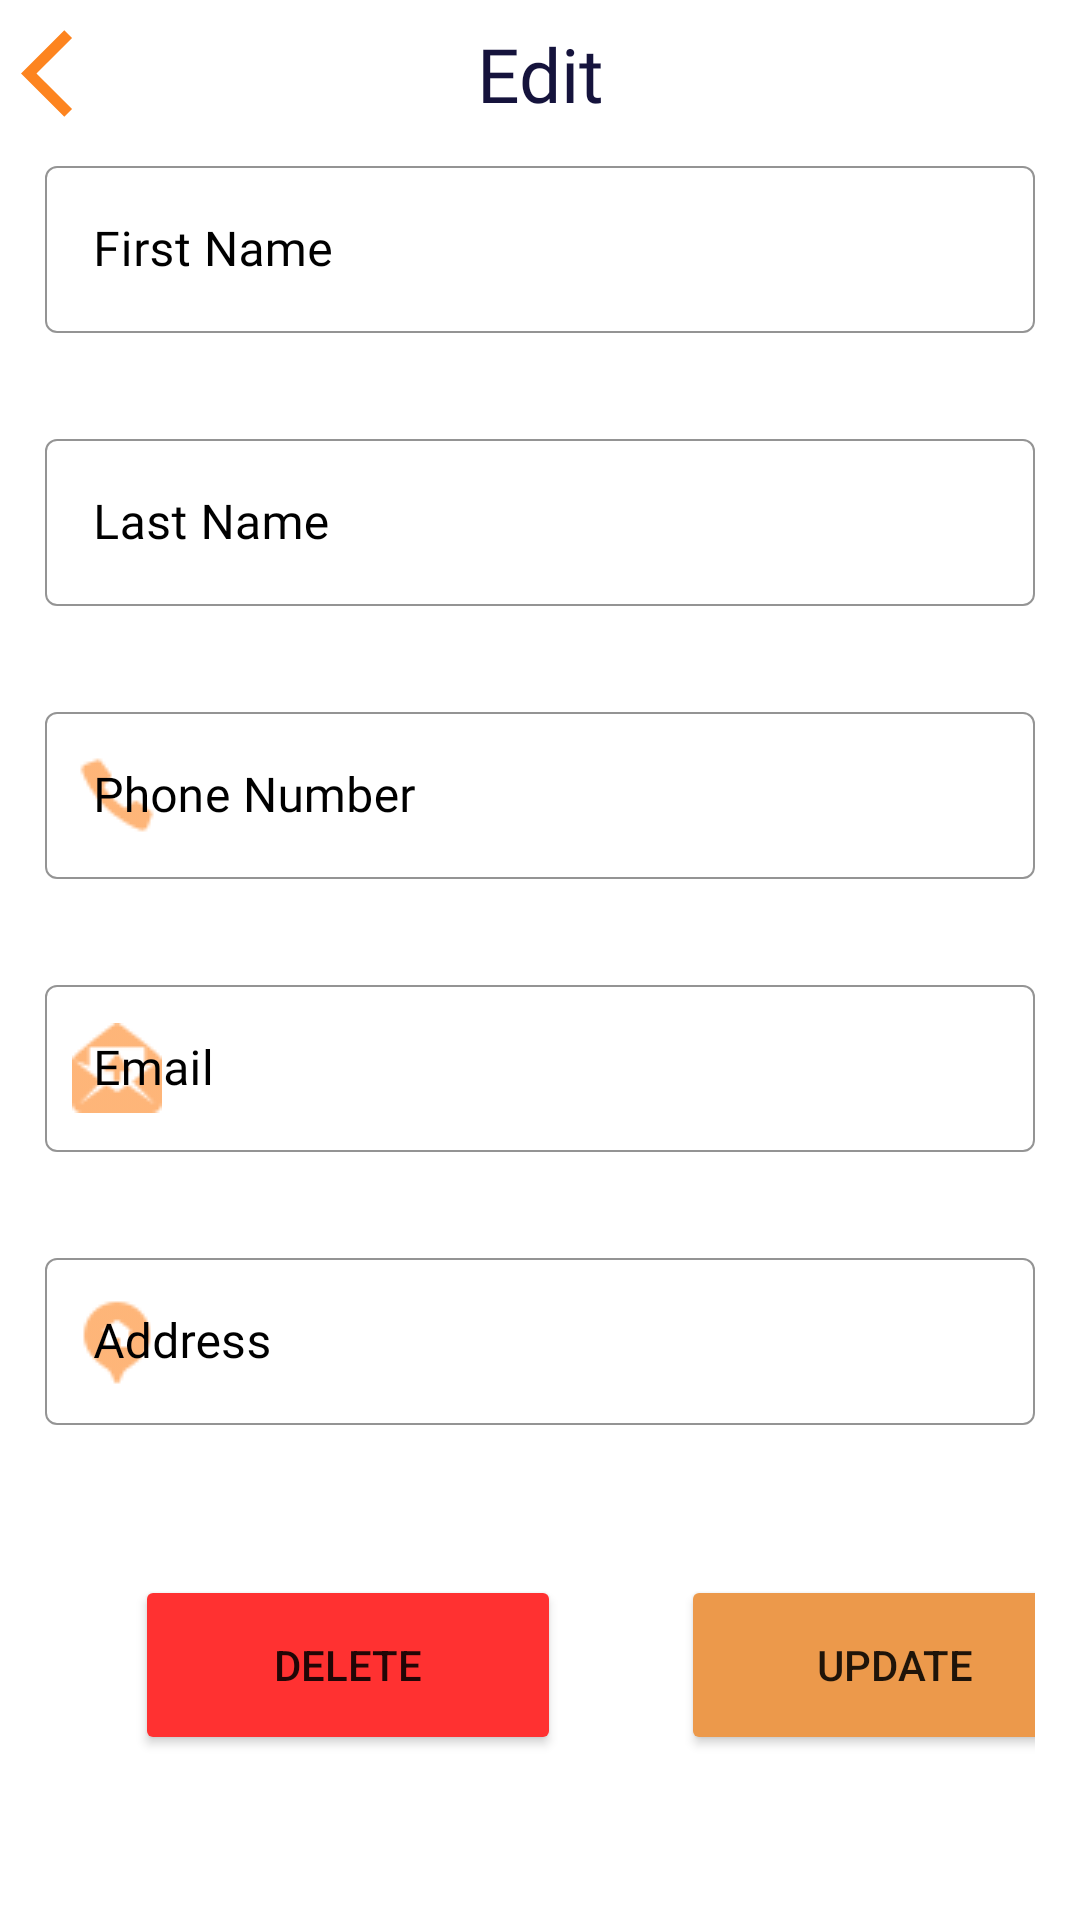

Icons on this 1080*1920 Android screen, each with its box as (x1, y1, x2, y2):
arrow back: (21, 30, 72, 117)
